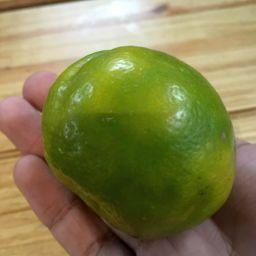Ripe: (44, 47, 238, 243)
